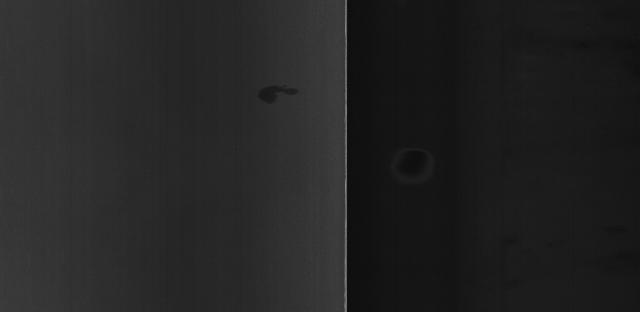oil_spot: (253, 79, 313, 113)
